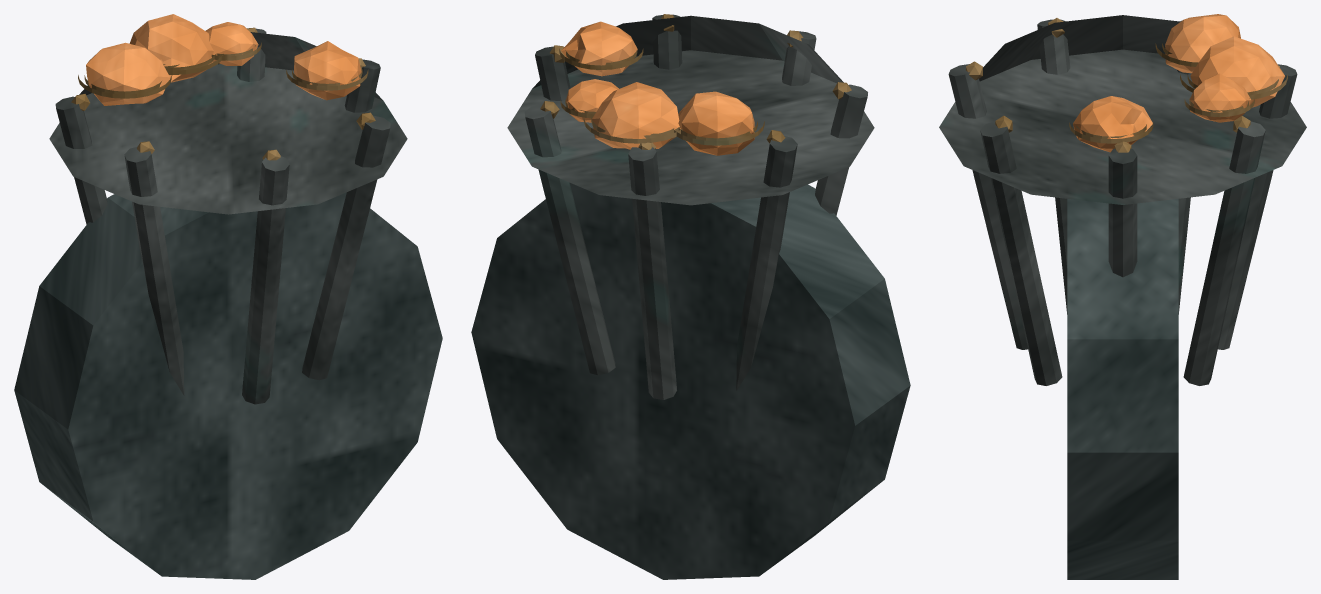
Rendered from 0535_brazier_10.glb.
The picture shows the model from 3 angles, left to right: view 1: azimuth 30°, elevation 25°; view 2: azimuth 150°, elevation 25°; view 3: azimuth 270°, elevation 25°; orthographic projection. The views are drawn at different scales.
Visible parts, largest first — view 1: stone_dark, iron, amber, brass; view 2: stone_dark, iron, amber, brass; view 3: iron, stone_dark, amber, brass.
Boxes of the visible parts, x1,y1,x2,y2 form: stone_dark: (14, 192, 442, 579); iron: (49, 28, 407, 404); amber: (86, 14, 361, 105); brass: (71, 27, 375, 160); stone_dark: (471, 183, 910, 579); iron: (507, 14, 874, 399); amber: (561, 21, 754, 155); brass: (540, 14, 851, 149); iron: (939, 15, 1306, 385); stone_dark: (1067, 199, 1178, 579); amber: (1073, 14, 1284, 152); brass: (965, 18, 1287, 152).
Size of the model in its own units: 1.4 by 1.78 by 1.16.
4 materials, 4 textured.
